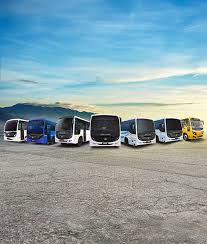bus: (88, 112, 123, 150), (53, 116, 91, 147), (120, 116, 156, 148), (152, 118, 183, 145), (26, 119, 56, 146), (3, 119, 30, 143), (181, 117, 204, 142)
